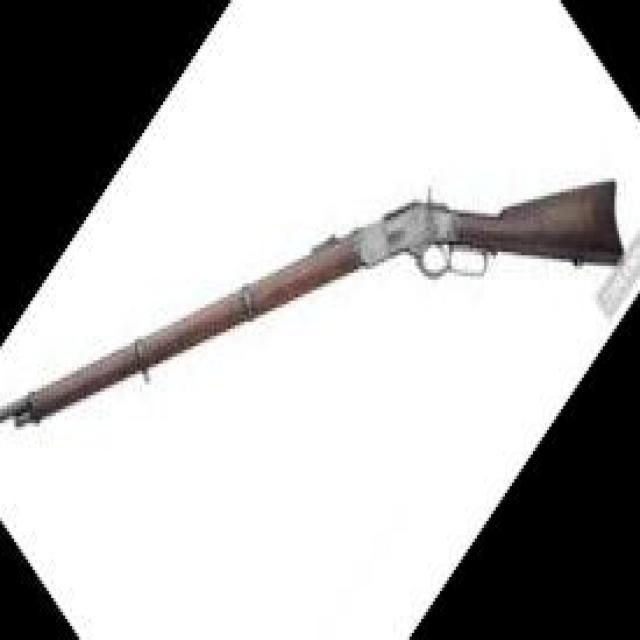weapon: (0, 176, 628, 431)
